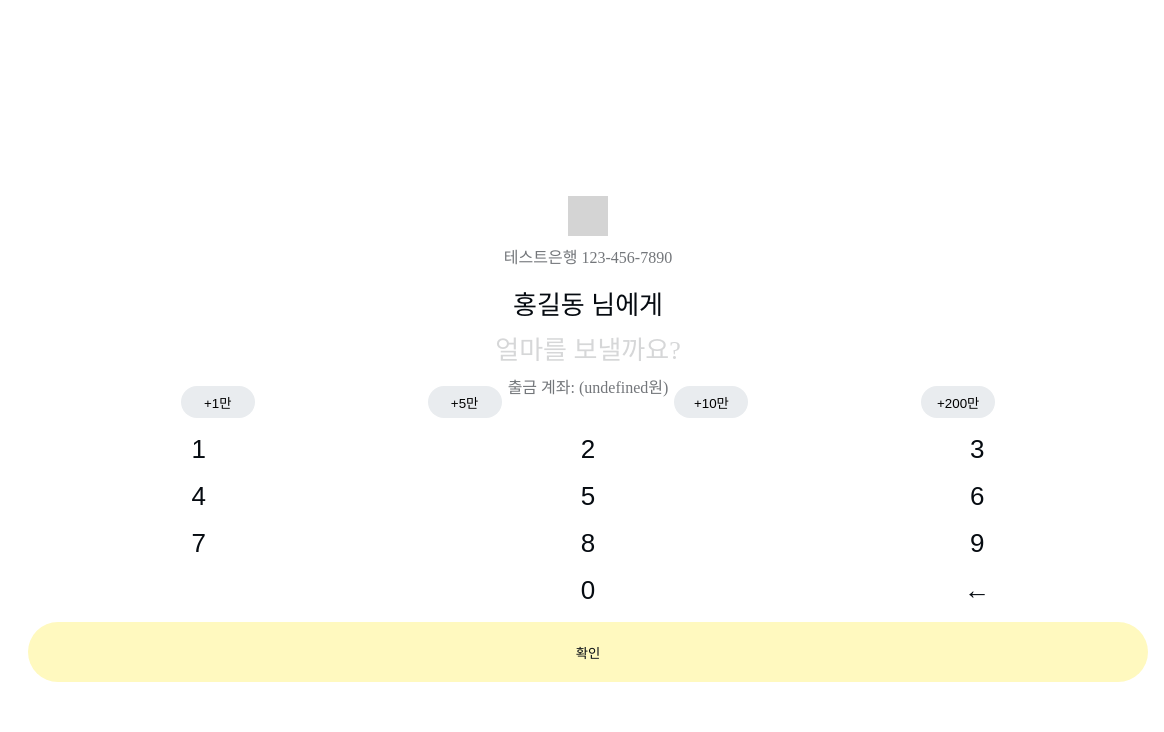
Test: Transfer › 키패드 ← 버튼 클릭 시 한 자리씩 삭제된다
Click the button "5". click: (588, 496)
box: [417,481,759,512]
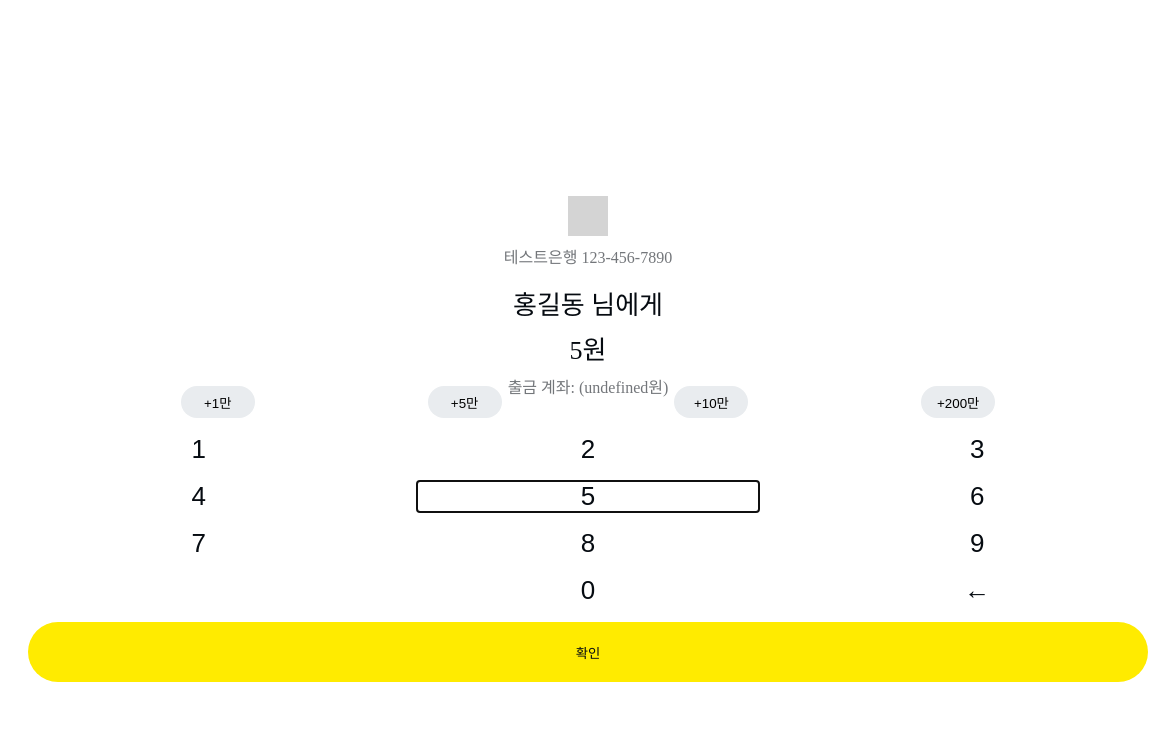
Click the button "0". click: (588, 590)
box: [417,575,759,606]
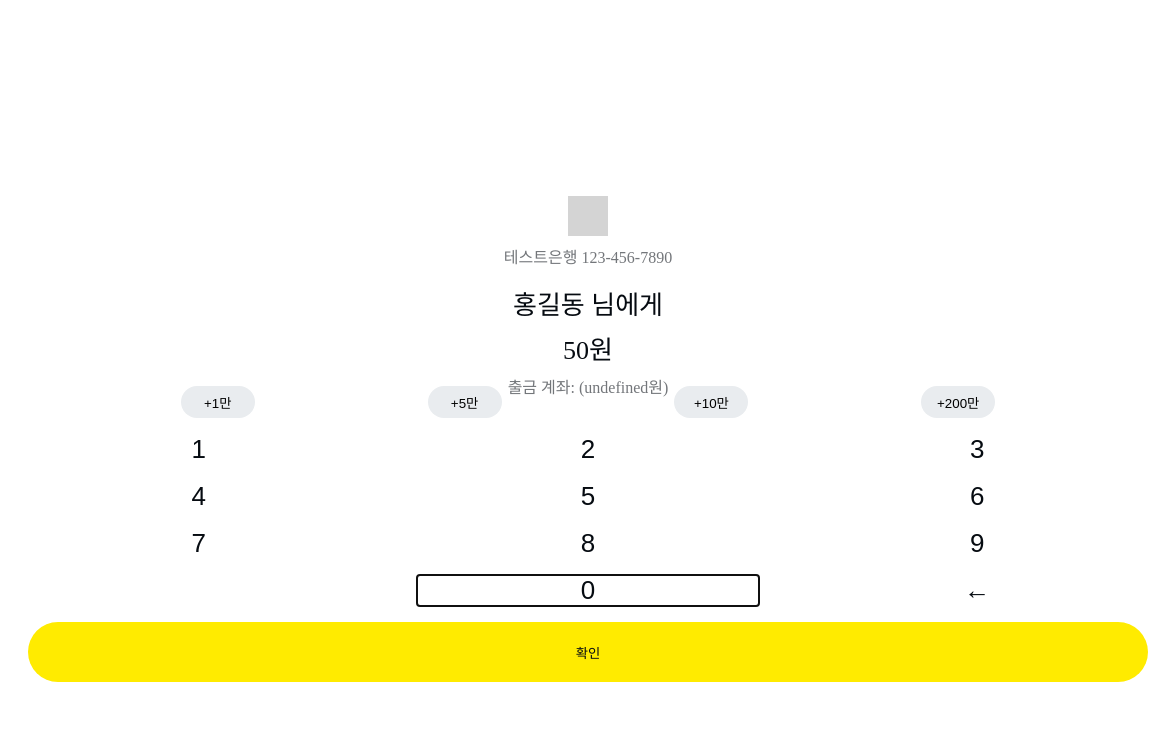
Click the button "0". click: (588, 590)
box: [417,575,759,606]
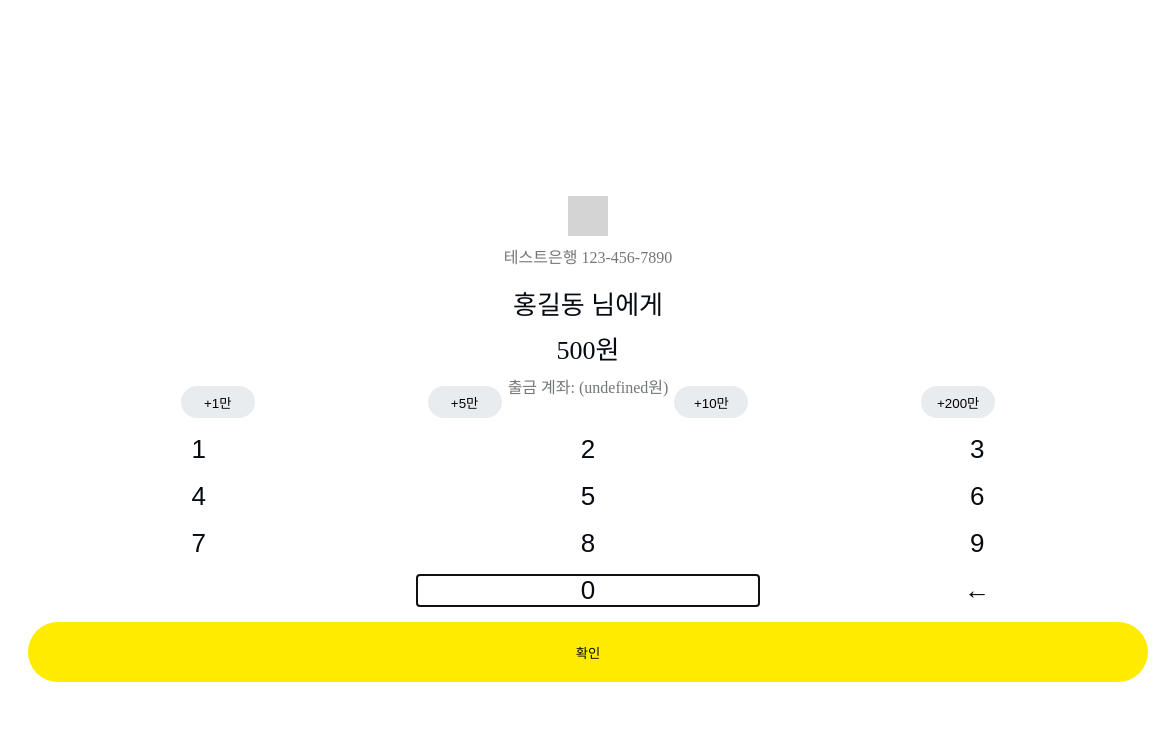
Click the button "0". click: (588, 590)
box: [417,575,759,606]
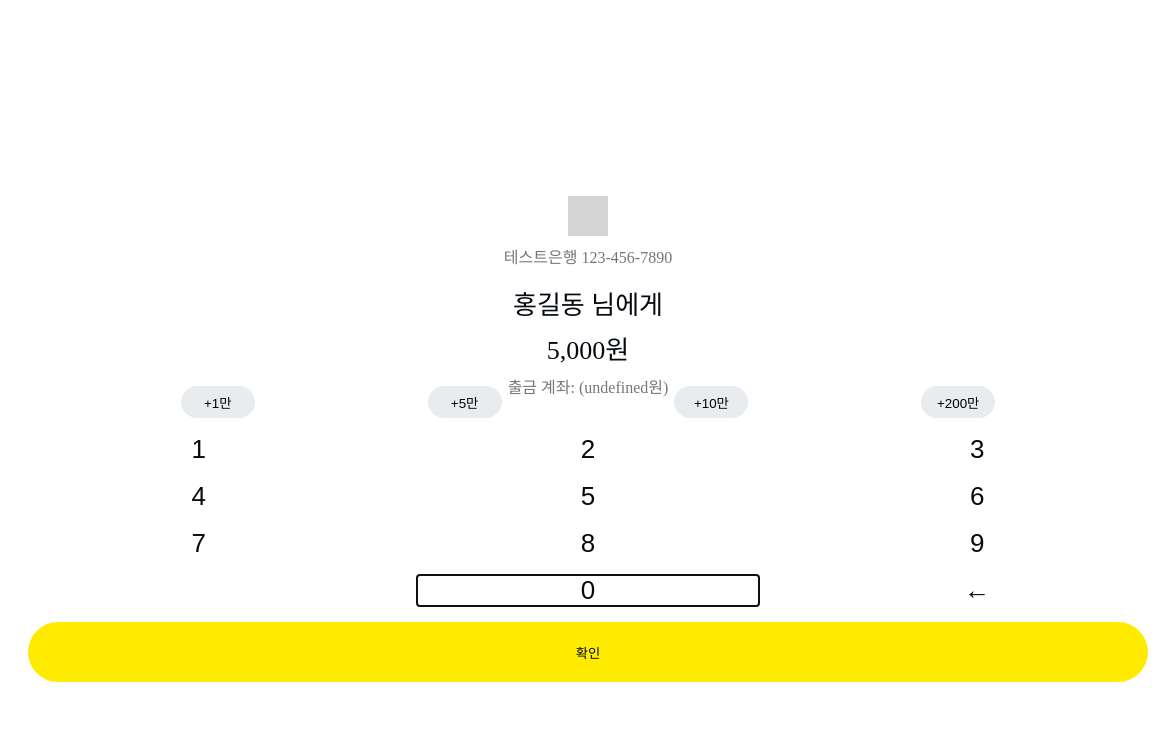
Expected: the text "5,000원" is shown, [547,336,629,365]
Click the button named "지우기". click: (977, 590)
box: [807,575,1148,606]
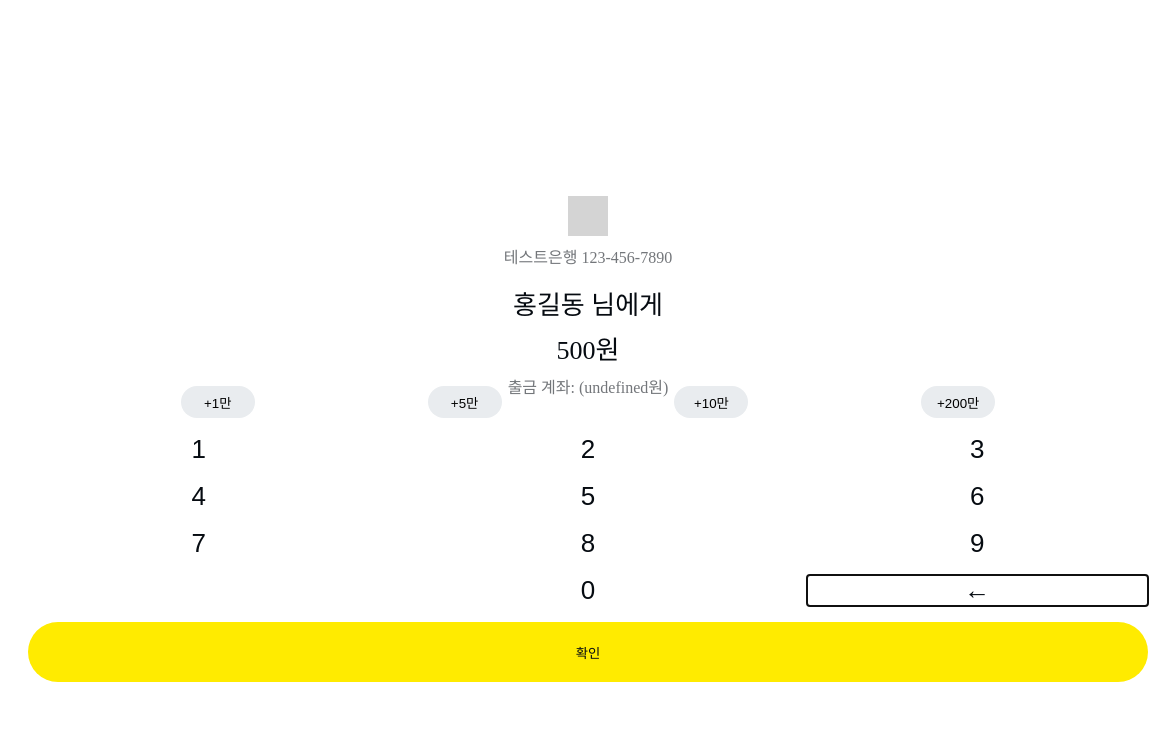
Expected: the text "500원" is shown, [556,336,619,365]
